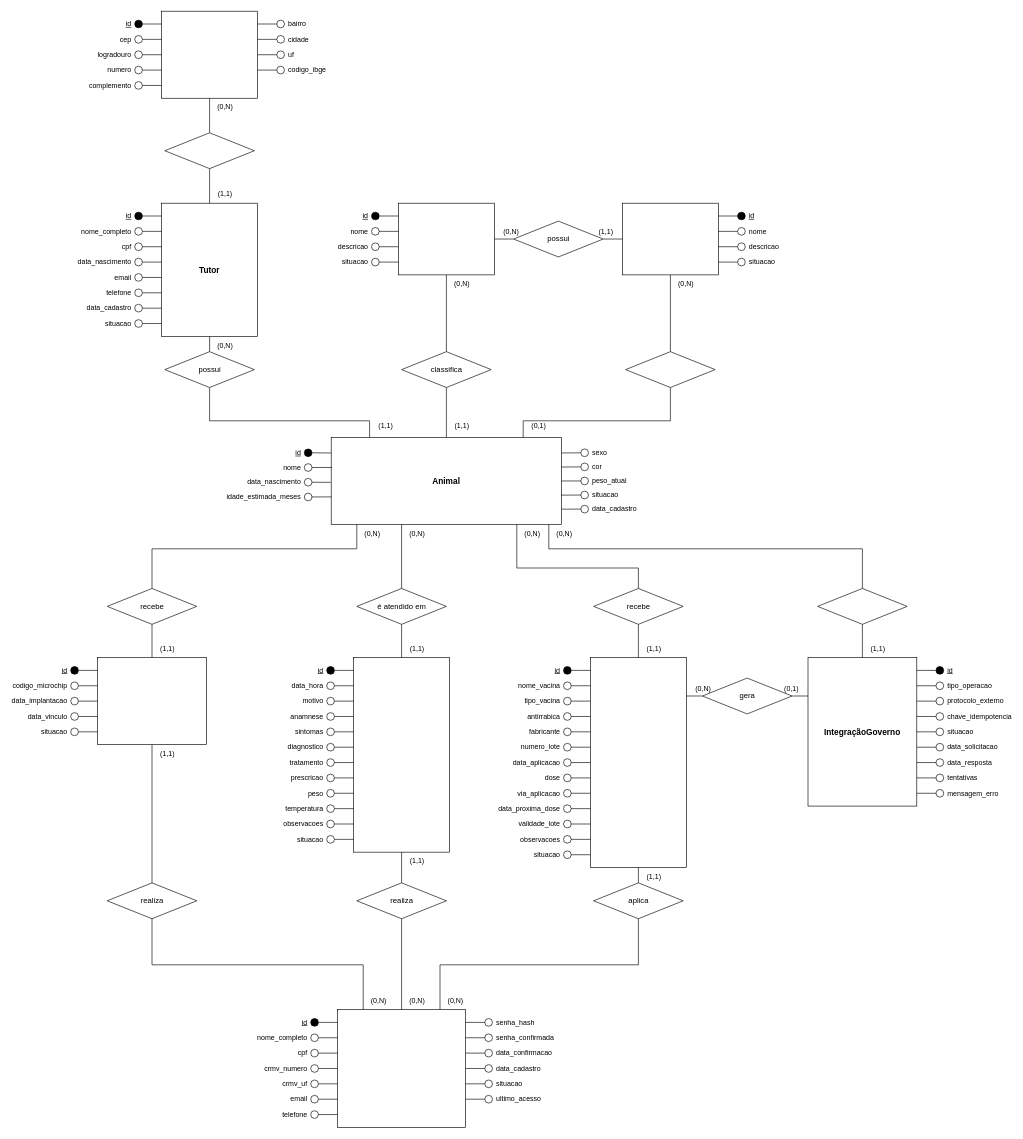
Some shapes in this 1023 by 1139 pixel diagram are drawn without their labels. Here are the shapes that lost their labels. From the top down, the centre of each, then its label:
point (209, 54): Endereço
point (209, 150): é residência de
point (446, 239): Espécie
point (670, 239): Raça
point (670, 369): define
point (862, 606): tem
point (151, 701): VínculoMicrochip
point (401, 754): Consulta
point (638, 762): Vacina
point (401, 1068): Veterinário
